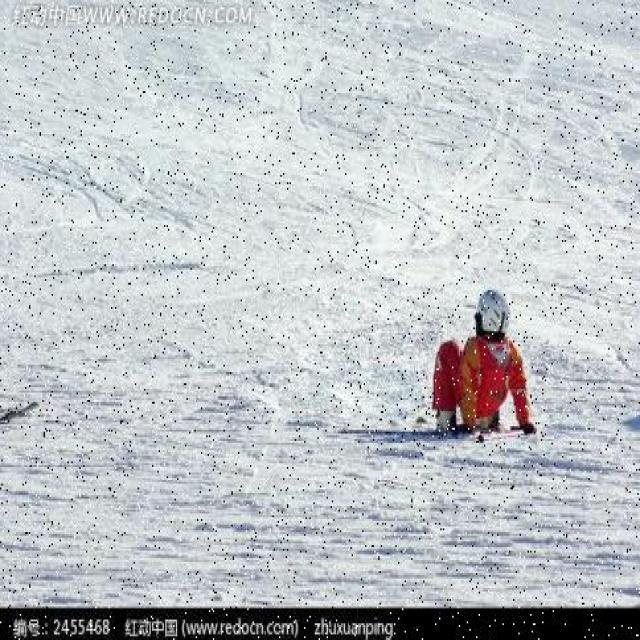fall: (422, 290, 543, 432)
